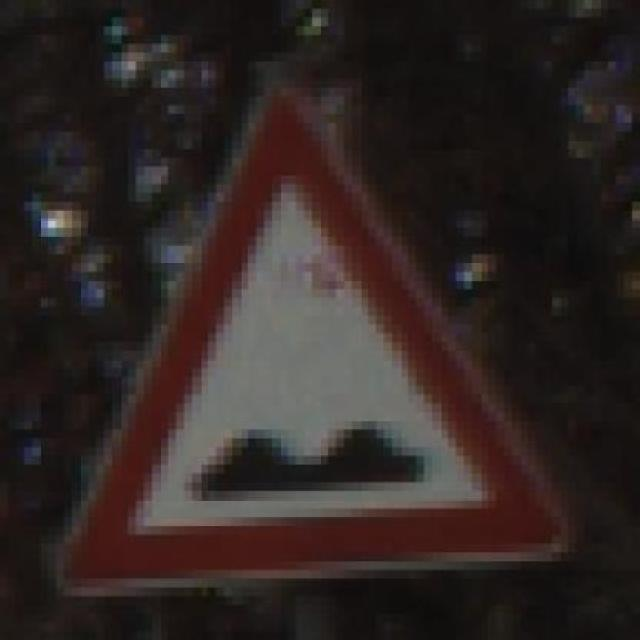Uneven Road: (49, 70, 576, 596)
